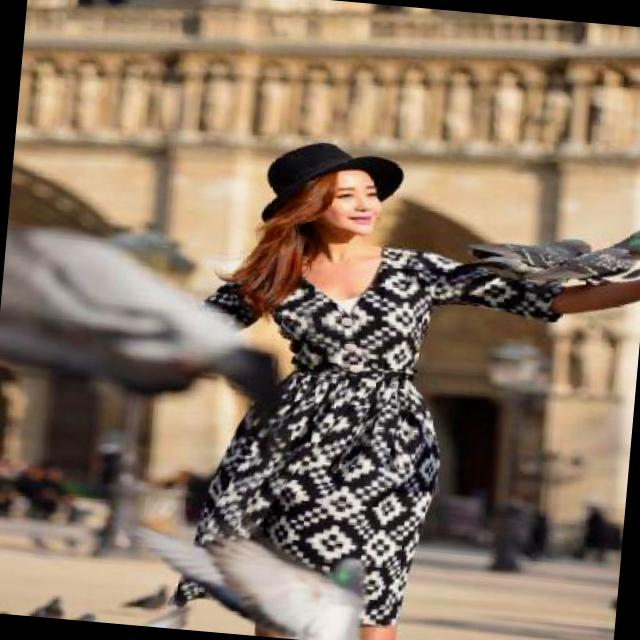Person: (66, 109, 569, 640)
